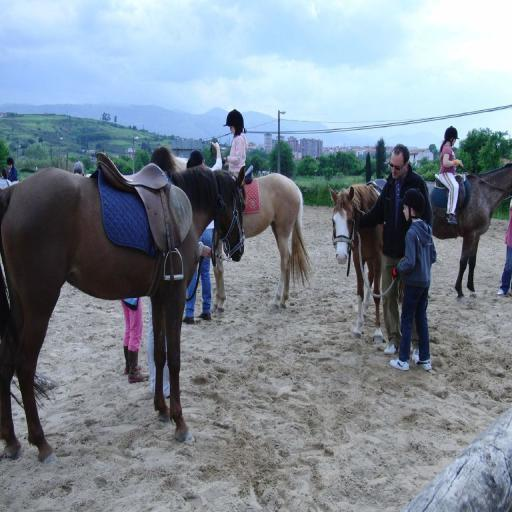horse: (0, 162, 249, 464), (175, 156, 317, 311), (327, 183, 407, 346), (422, 162, 512, 300)
